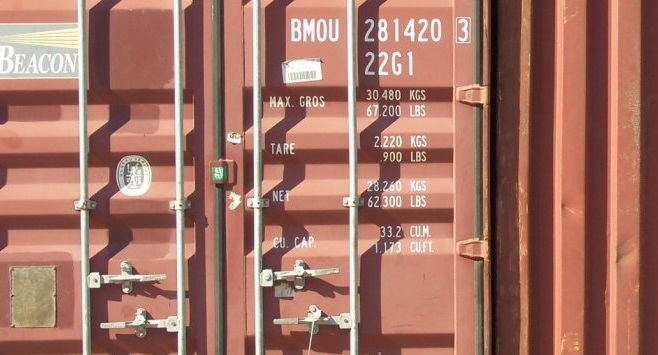container_door: (2, 2, 491, 350)
